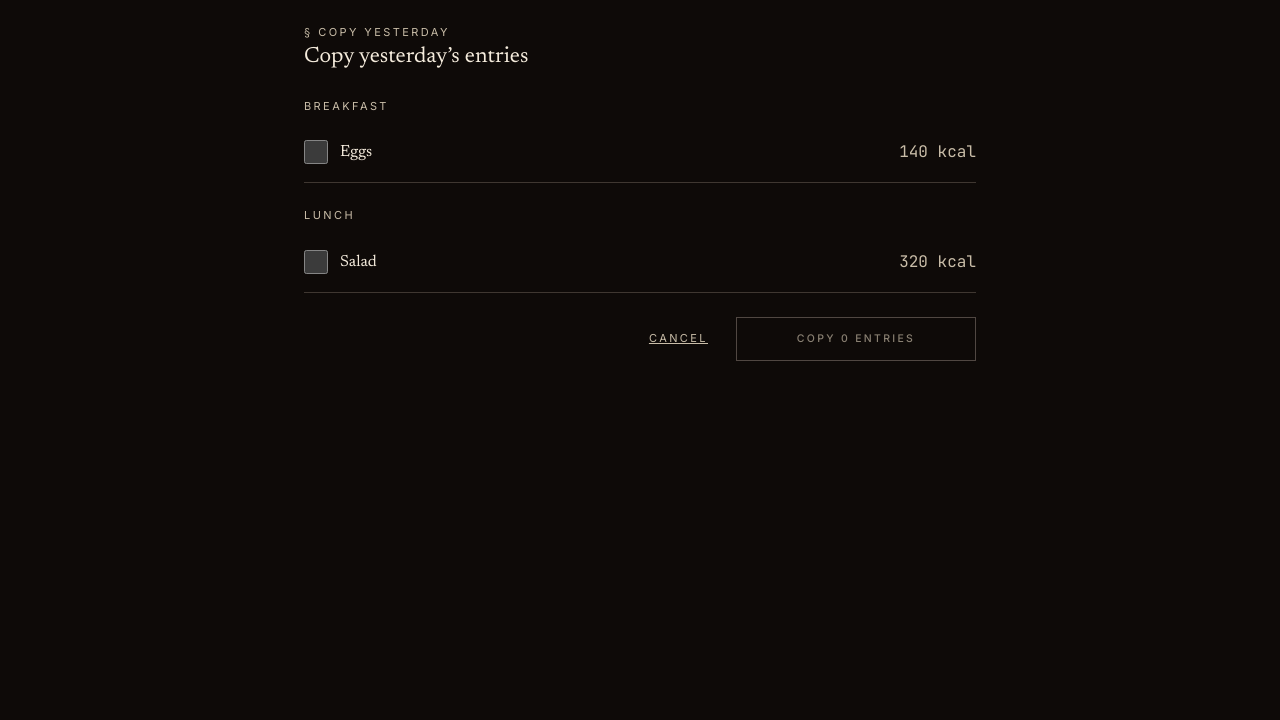
Test: <CopyYesterdayModal /> › Cancel with dirty selections opens DiscardDraftAlertDialog
Click the checkbox labelled "Eggs 140 kcal": click(316, 152) x1=304 y1=140 x2=328 y2=164
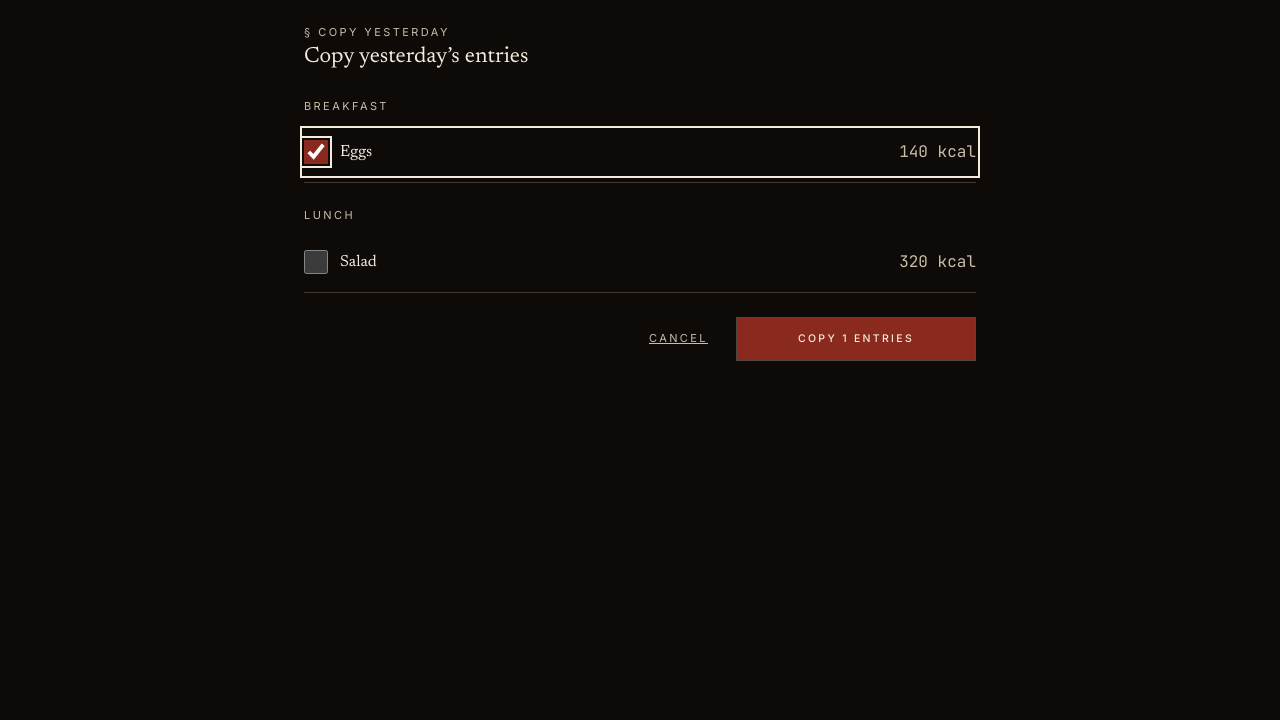
Click the button "CANCEL": click(678, 338) x1=633 y1=316 x2=724 y2=360
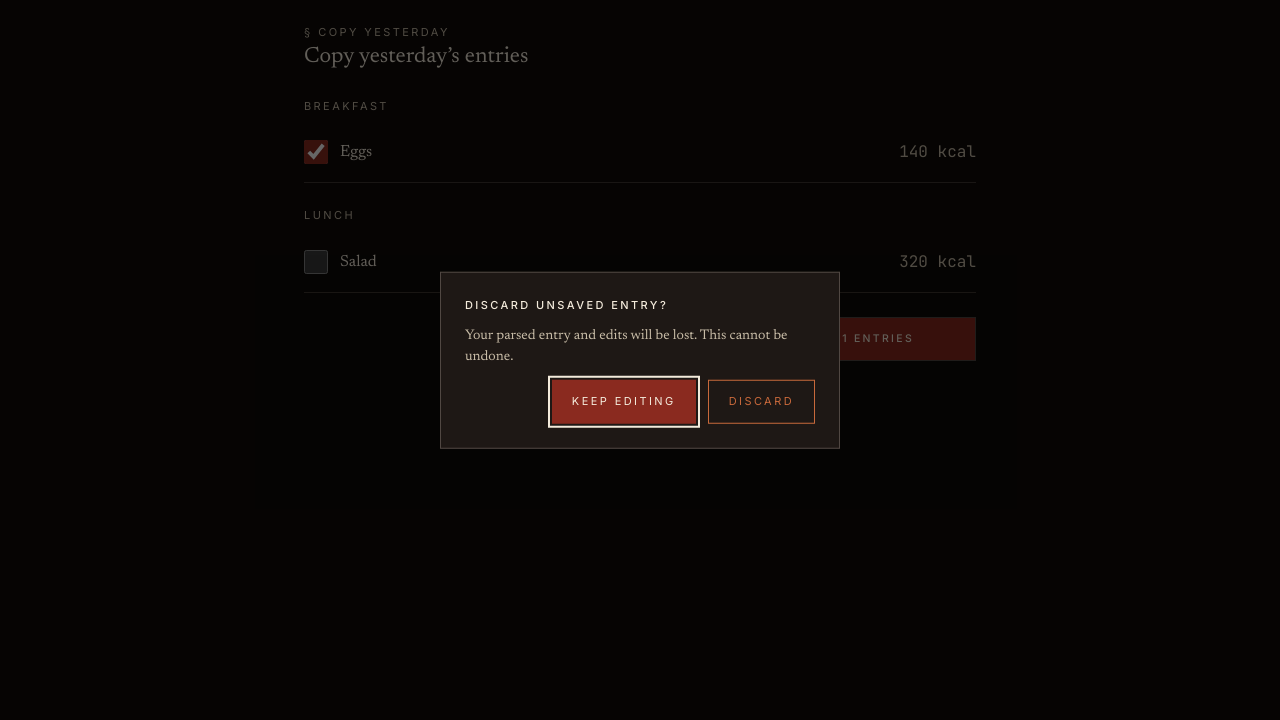
Expected: the button with test id "discard-cancel" is shown, x1=552 y1=379 x2=696 y2=423
